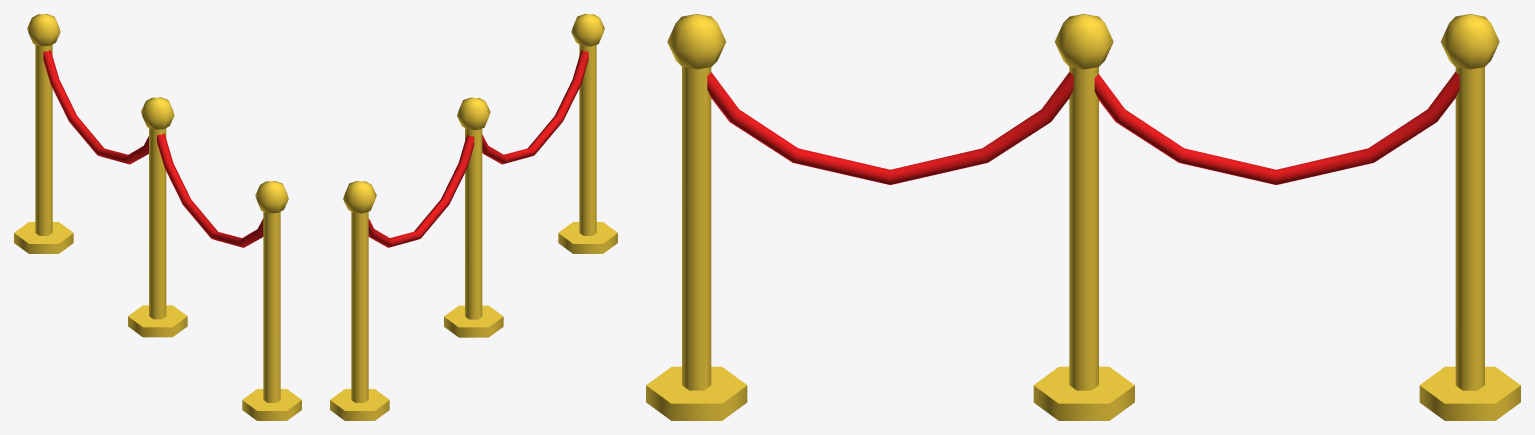
File: vip_zone.fbx
3 views of the same model, side by side, from view 1: azimuth 30°, elevation 25°; view 2: azimuth 150°, elevation 25°; view 3: azimuth 270°, elevation 25° (orthographic). The views are drawn at different scales.
Parts seen in each view (by area): view 1: pCylinder72, pCylinder71; view 2: pCylinder72, pCylinder71; view 3: pCylinder72, pCylinder71.
Part boxes in pixels (box(x1,y1,x2,y2)): pCylinder72: box(128, 97, 301, 420); pCylinder71: box(14, 14, 148, 253); pCylinder72: box(444, 14, 617, 337); pCylinder71: box(330, 135, 474, 420); pCylinder72: box(646, 14, 1134, 420); pCylinder71: box(1094, 14, 1520, 420).
Size of what is drawn, in the model's own units: 0.3113 by 1.52 by 3.1.
